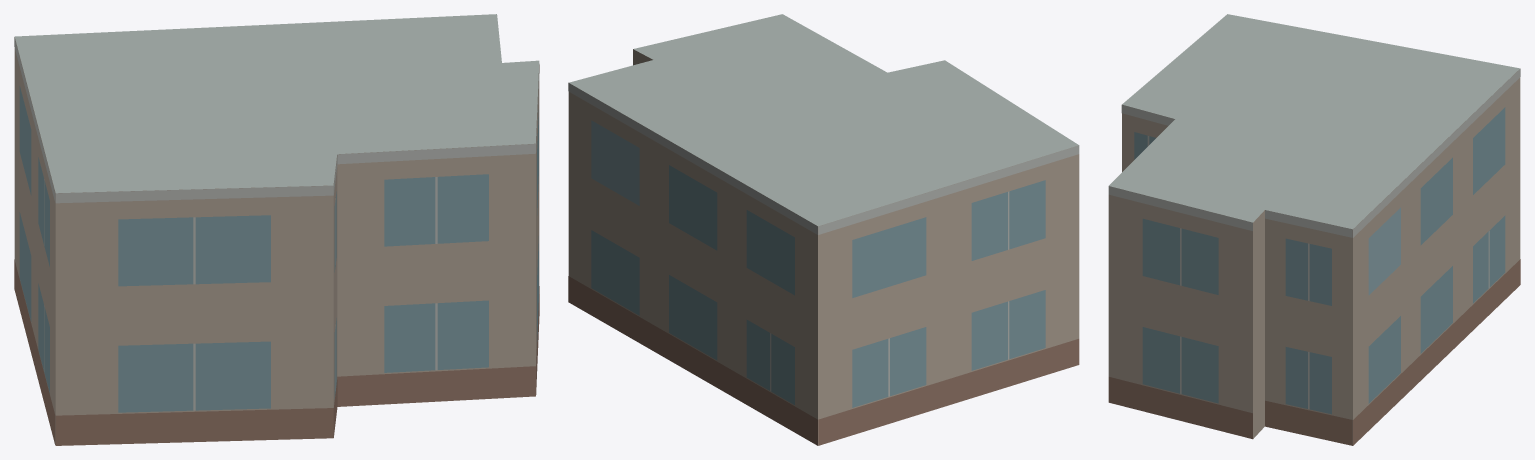
The model's file is survey-upis-32881299.glb.
3 renders of one model, left to right at view 1: azimuth 30°, elevation 25°; view 2: azimuth 150°, elevation 25°; view 3: azimuth 270°, elevation 25°, orthographic. The views are drawn at different scales.
Visible parts, largest first — view 1: survey-upis-32881299.tmp; view 2: survey-upis-32881299.tmp; view 3: survey-upis-32881299.tmp.
Part boxes in pixels (box(x1,y1,x2,y2)): survey-upis-32881299.tmp: box(14, 14, 539, 445); survey-upis-32881299.tmp: box(568, 14, 1079, 445); survey-upis-32881299.tmp: box(1108, 14, 1520, 445).
Bounding box in the file's own units: 13.01 × 6.1 × 10.52.
